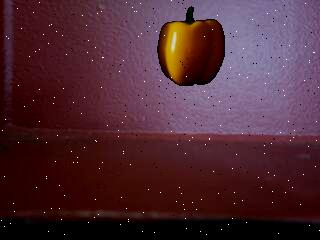Capsicum: (157, 5, 228, 87)
